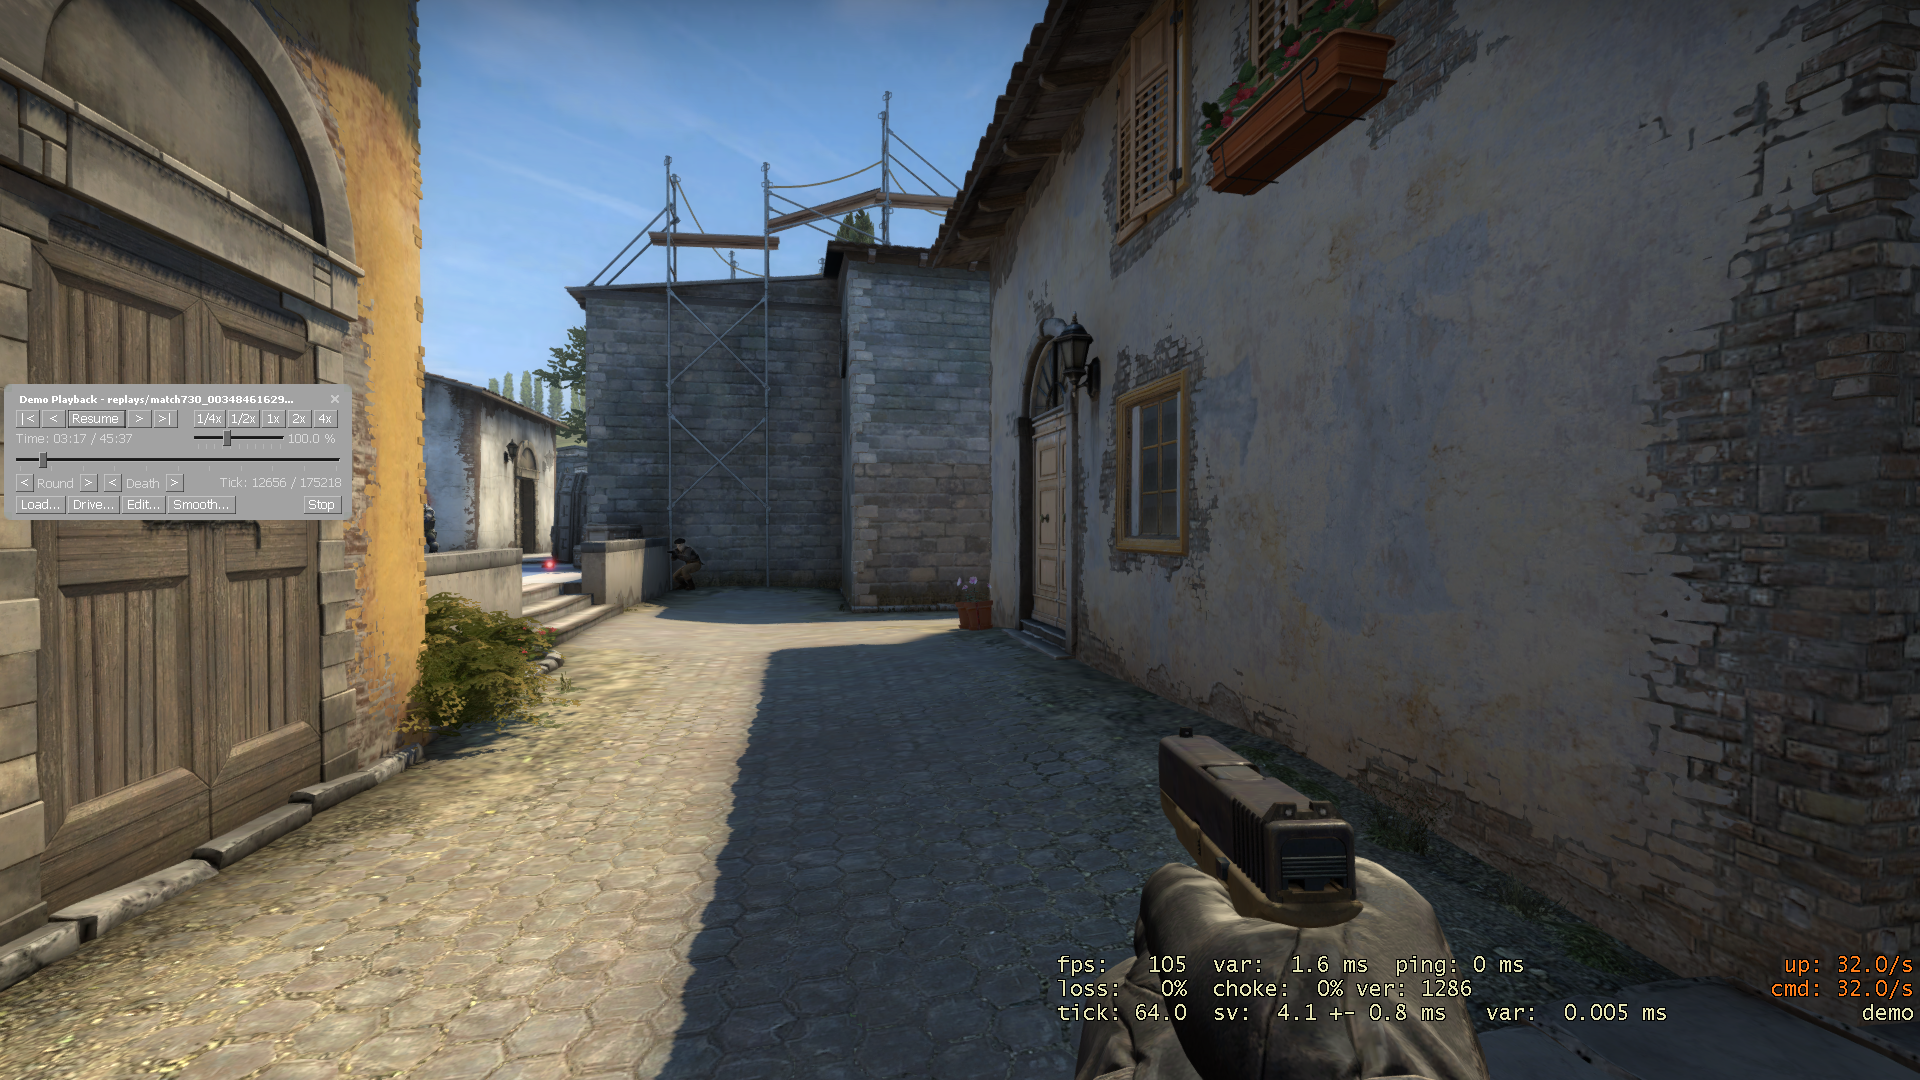ct: (423, 504, 438, 554)
t: (667, 538, 702, 591)
